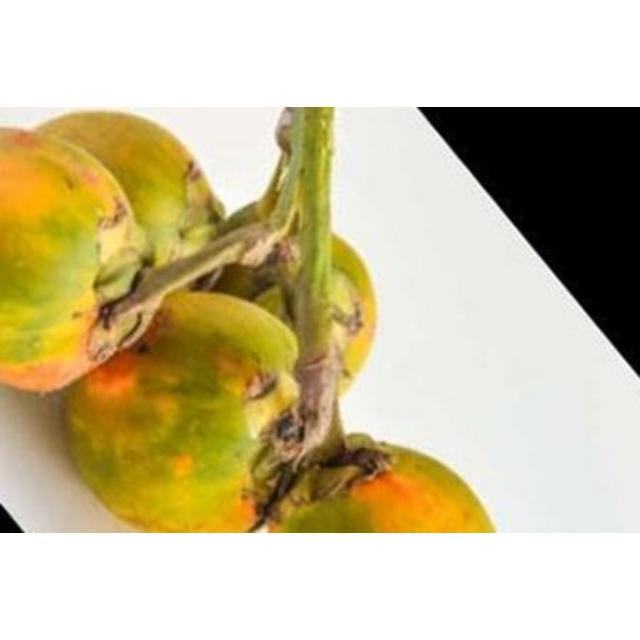good: (1, 112, 496, 532)
